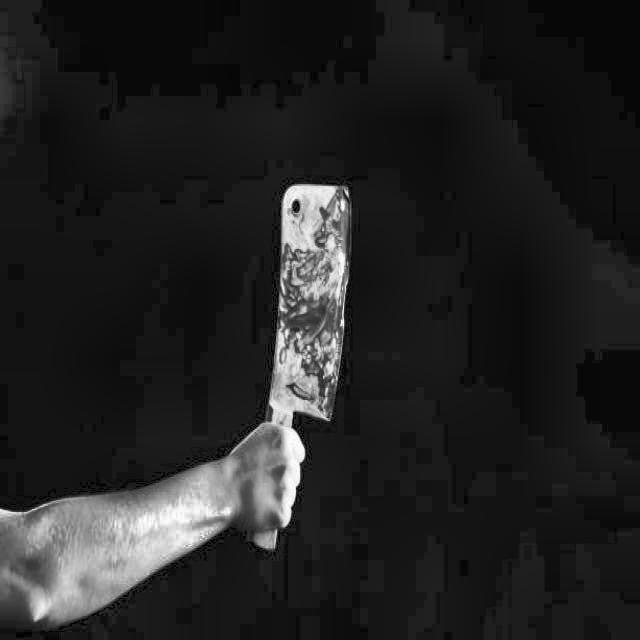pisau: (227, 172, 368, 561)
